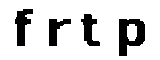f: (10, 8, 37, 50)
p: (114, 10, 149, 60)
r: (41, 17, 74, 49)
t: (77, 11, 106, 52)
